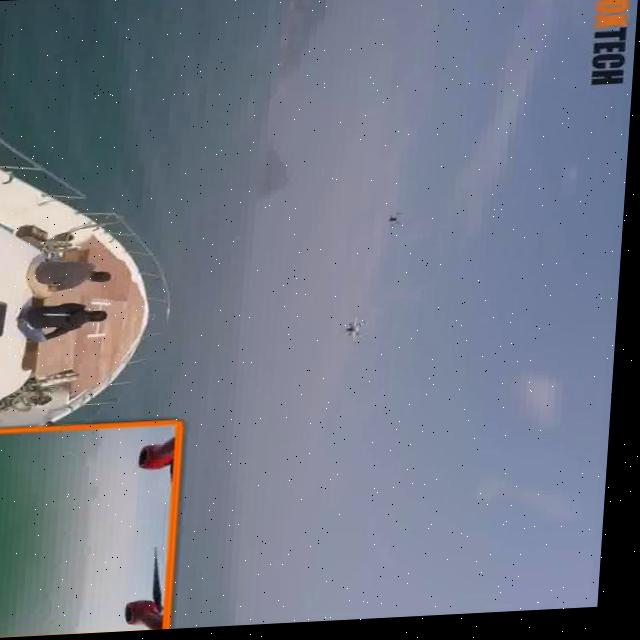drone: (335, 316, 390, 355), (376, 211, 417, 238)
